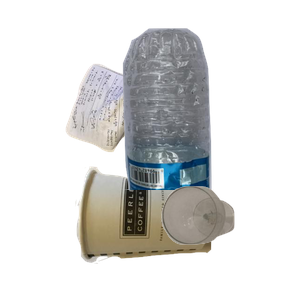glass: (159, 184, 300, 300)
paper: (63, 61, 242, 206)
plastic: (111, 26, 300, 206)
trash: (73, 164, 278, 300)
